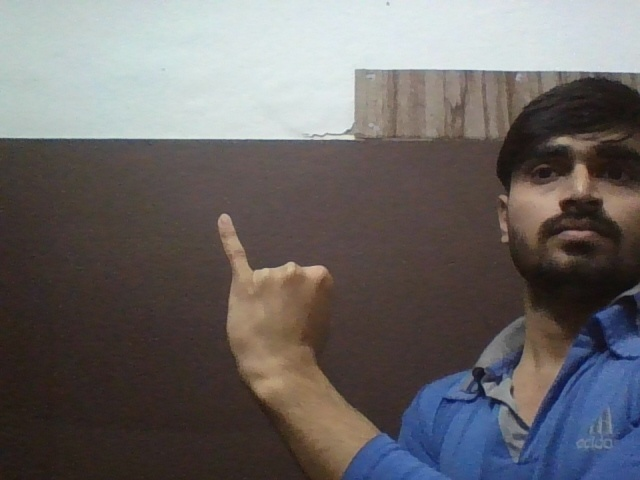J: (206, 209, 352, 380)
